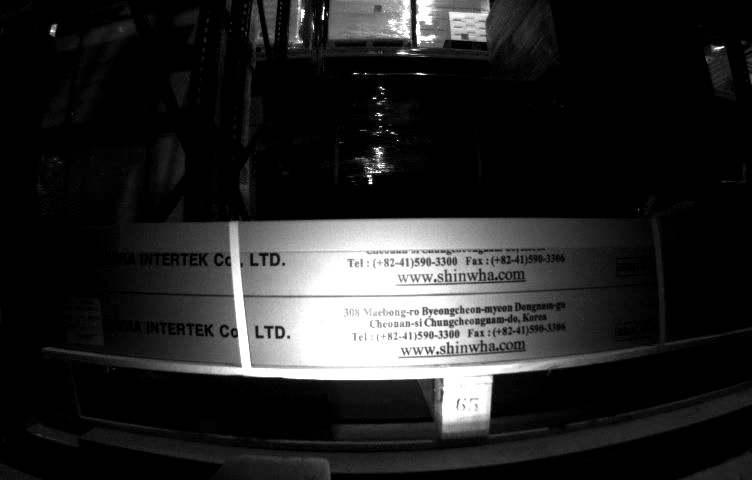True Barcode: (59, 296, 108, 346)
